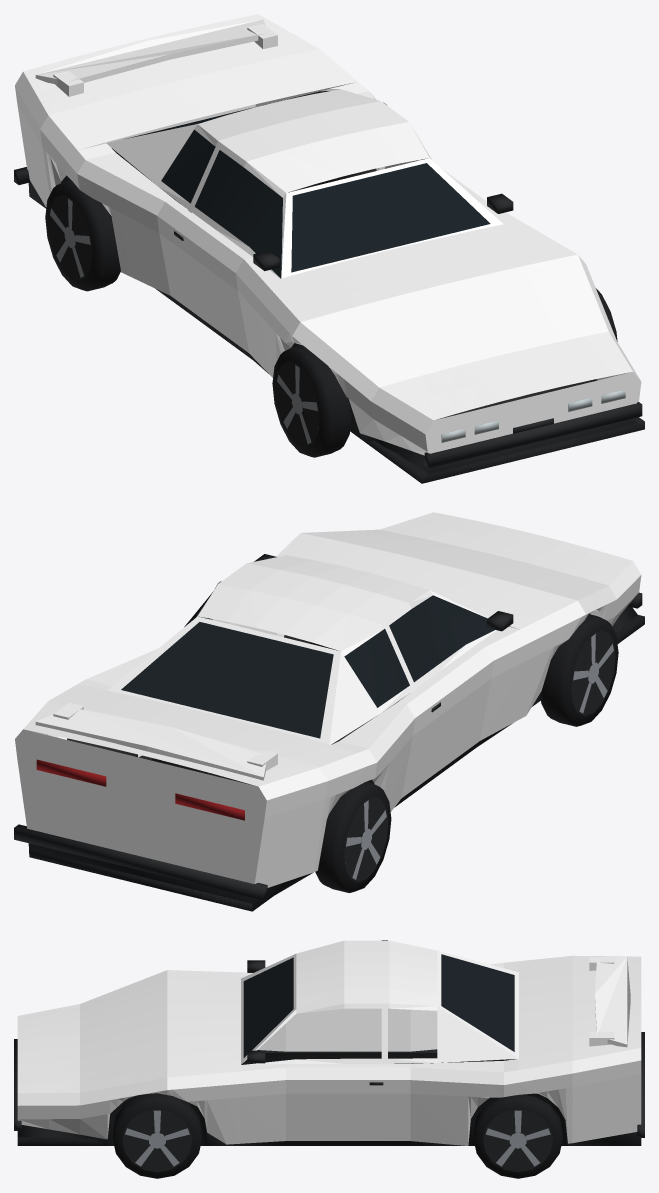
The model's file is keldorf_dardo.glb.
The picture shows the model from 3 angles, top to bottom: view 1: azimuth 30°, elevation 25°; view 2: azimuth 150°, elevation 25°; view 3: azimuth 270°, elevation 25°; orthographic projection. The views are drawn at different scales.
Visible parts, largest first — view 1: Body_Paint, Body_Details, Mount_FrontLeft_Wheel_Details, Mount_RearLeft_Wheel_Details; view 2: Body_Paint, Body_Details, Mount_FrontLeft_Wheel_Details, Mount_RearLeft_Wheel_Details; view 3: Body_Paint, Body_Details, Mount_FrontRight_Wheel_Details, Mount_RearRight_Wheel_Details.
Part boxes in pixels (box(x1,y1,x2,y2)): Body_Paint: box(15, 14, 641, 455); Body_Details: box(14, 91, 644, 483); Mount_FrontLeft_Wheel_Details: box(272, 345, 351, 457); Mount_RearLeft_Wheel_Details: box(45, 179, 120, 291); Body_Paint: box(15, 512, 641, 887); Body_Details: box(14, 554, 644, 911); Mount_FrontLeft_Wheel_Details: box(540, 614, 618, 726); Mount_RearLeft_Wheel_Details: box(315, 781, 391, 892); Body_Paint: box(17, 940, 641, 1145); Body_Details: box(14, 954, 644, 1145); Mount_FrontRight_Wheel_Details: box(112, 1093, 202, 1178); Mount_RearRight_Wheel_Details: box(473, 1094, 562, 1178).
Size of the model in its own units: 1.99 by 1.23 by 4.57.
2 materials, 1 textured.
